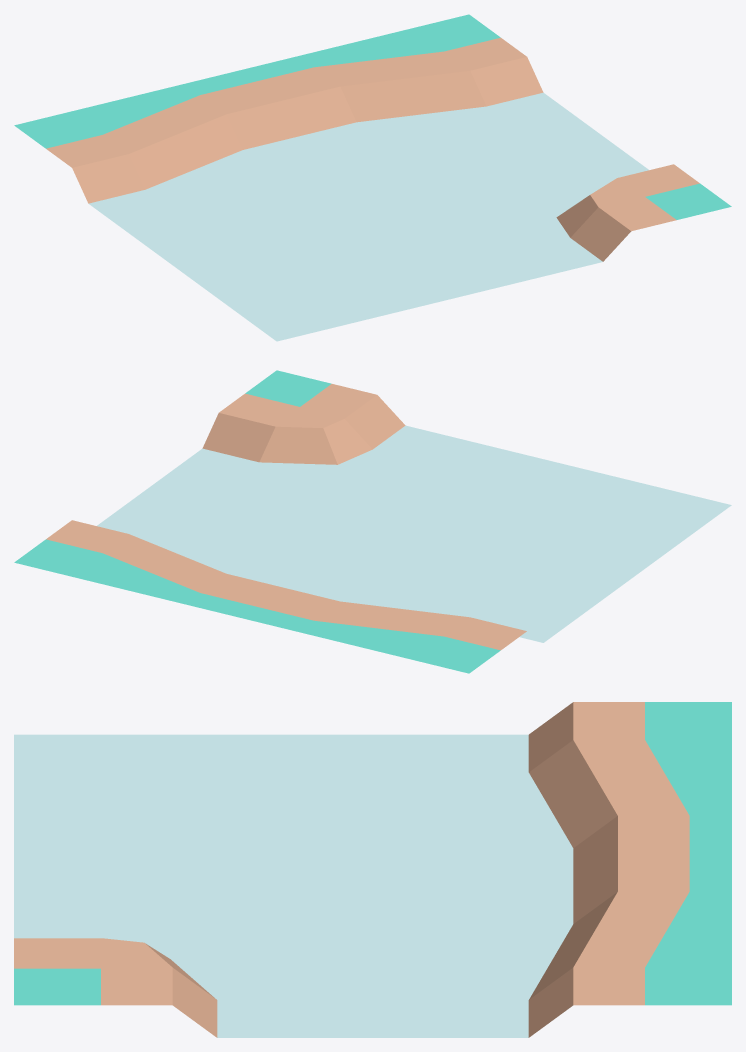
Rendered from ground_riverCornerBank.glb.
3 views of the same model, one above another, from view 1: azimuth 30°, elevation 25°; view 2: azimuth 150°, elevation 25°; view 3: azimuth 270°, elevation 25° (orthographic). The views are drawn at different scales.
Visible parts, largest first — view 1: ground_riverCornerBank; view 2: ground_riverCornerBank; view 3: ground_riverCornerBank.
Boxes of the visible parts, <box> form: ground_riverCornerBank: <box>14,14,731,341</box>; ground_riverCornerBank: <box>14,370,731,673</box>; ground_riverCornerBank: <box>14,702,731,1037</box>.
Bounding box in the file's own units: 1 × 0.05 × 1.
